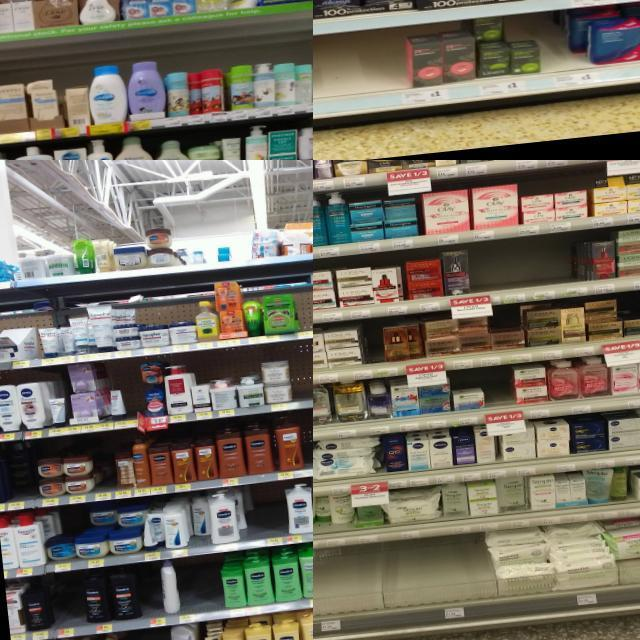empty: (383, 534, 493, 626), (313, 32, 404, 118), (313, 546, 386, 640), (176, 555, 224, 621), (535, 20, 572, 90), (253, 481, 288, 546), (482, 366, 520, 424), (51, 573, 85, 637), (468, 242, 502, 306), (496, 238, 529, 303), (551, 232, 580, 298), (525, 238, 555, 300), (137, 562, 165, 626), (287, 348, 313, 408), (364, 320, 387, 378), (95, 446, 116, 498), (122, 370, 138, 428), (299, 412, 313, 475), (295, 293, 313, 338), (138, 626, 175, 640)
